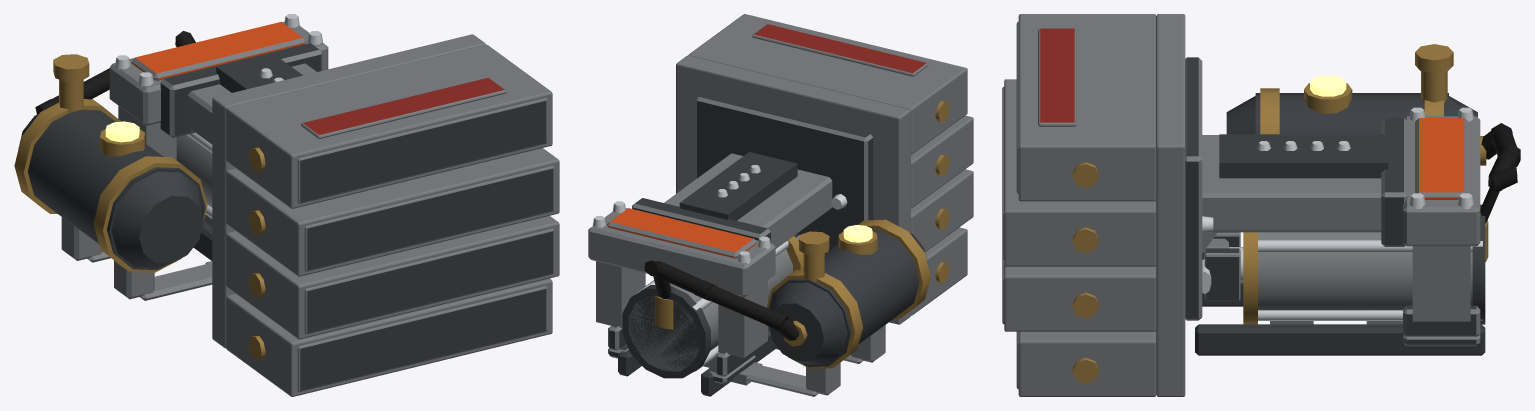
Rendered from gauntlet_puncher.fbx.
The picture shows the model from 3 angles, left to right: view 1: azimuth 30°, elevation 25°; view 2: azimuth 150°, elevation 25°; view 3: azimuth 270°, elevation 25°; orthographic projection. The views are drawn at different scales.
Parts seen in each view (by area): view 1: Mesh_KnuckleBlock_Segmented, Mesh_SuckerPuncher_Boiler, Mesh_RamSlide_Carriage, Mesh_SuckerPuncher_RamArm, Mesh_SuckerPuncher_BoilerBracket, Mesh_RamSlide_Cylinder, Mesh_SuckerPuncher_SteamLine; view 2: Mesh_KnuckleBlock_Segmented, Mesh_SuckerPuncher_RamArm, Mesh_SuckerPuncher_Boiler, Mesh_RamSlide_Carriage, Mesh_RamSlide_Cylinder, Mesh_SuckerPuncher_BoilerBracket, Mesh_SuckerPuncher_SteamLine, Mesh_SuckerPuncher_RailLeft, Mesh_SuckerPuncher_RailRight; view 3: Mesh_KnuckleBlock_Segmented, Mesh_SuckerPuncher_RamArm, Mesh_RamSlide_Cylinder, Mesh_RamSlide_Carriage, Mesh_SuckerPuncher_Boiler, Mesh_SuckerPuncher_RailRight, Mesh_RamSlide_Rod, Mesh_SuckerPuncher_SteamLine.
Boxes of the visible parts, <box> form: Mesh_KnuckleBlock_Segmented: <box>212,34,559,396</box>; Mesh_SuckerPuncher_Boiler: <box>14,54,207,272</box>; Mesh_RamSlide_Carriage: <box>109,14,328,160</box>; Mesh_SuckerPuncher_RamArm: <box>160,43,322,144</box>; Mesh_SuckerPuncher_BoilerBracket: <box>61,217,212,300</box>; Mesh_RamSlide_Cylinder: <box>175,31,212,218</box>; Mesh_SuckerPuncher_SteamLine: <box>35,58,132,114</box>; Mesh_KnuckleBlock_Segmented: <box>676,14,973,324</box>; Mesh_SuckerPuncher_RamArm: <box>632,93,873,253</box>; Mesh_SuckerPuncher_Boiler: <box>766,219,930,368</box>; Mesh_RamSlide_Carriage: <box>588,201,775,384</box>; Mesh_RamSlide_Cylinder: <box>622,236,803,378</box>; Mesh_SuckerPuncher_BoilerBracket: <box>731,325,885,396</box>; Mesh_SuckerPuncher_SteamLine: <box>655,261,799,340</box>; Mesh_SuckerPuncher_RailLeft: <box>701,326,777,396</box>; Mesh_SuckerPuncher_RailRight: <box>618,349,641,376</box>; Mesh_KnuckleBlock_Segmented: <box>1002,14,1185,396</box>; Mesh_SuckerPuncher_RamArm: <box>1185,57,1407,320</box>; Mesh_RamSlide_Cylinder: <box>1243,164,1517,324</box>; Mesh_RamSlide_Carriage: <box>1403,107,1480,346</box>; Mesh_SuckerPuncher_Boiler: <box>1226,44,1486,165</box>; Mesh_SuckerPuncher_RailRight: <box>1195,324,1485,355</box>; Mesh_RamSlide_Rod: <box>1202,232,1243,301</box>; Mesh_SuckerPuncher_SteamLine: <box>1481,123,1520,189</box>.
Size of the model in its own units: 33.6 by 23.36 by 42.9.
